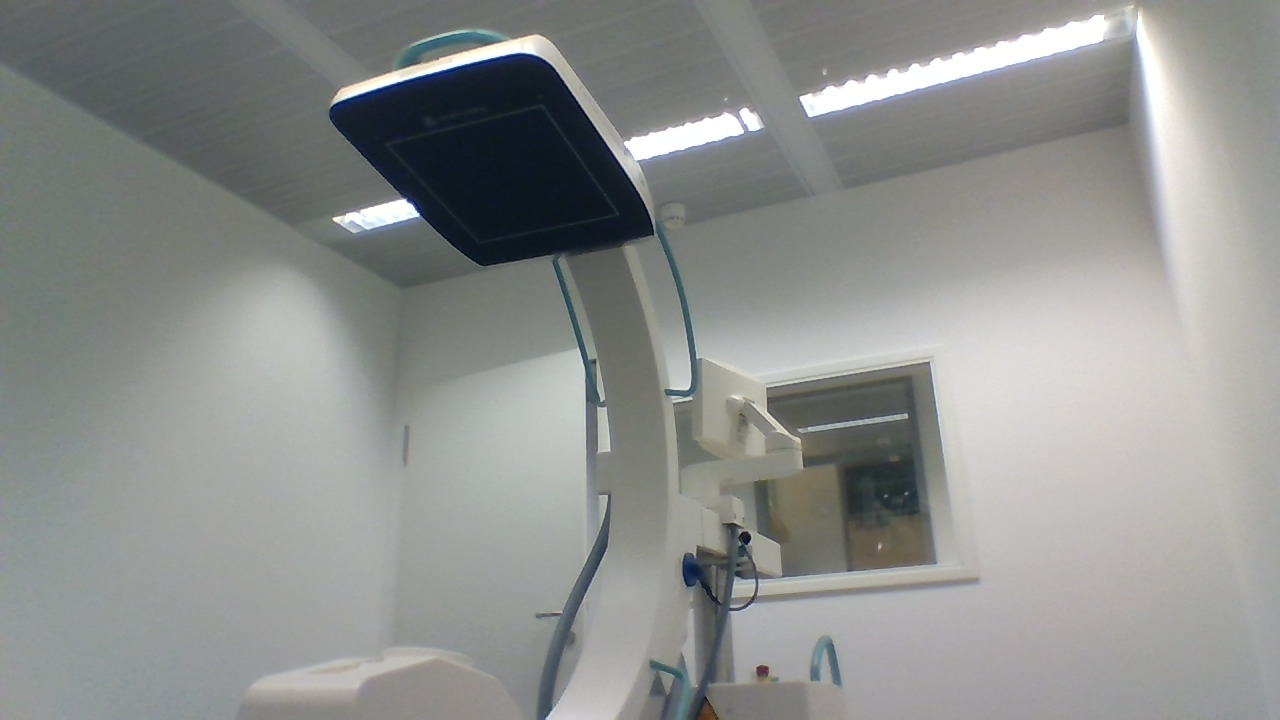carmBACK: (755, 674, 781, 686)
carmLOCK: (681, 550, 705, 587)
carmSCREEN: (689, 356, 768, 467)
carmUP: (327, 32, 656, 269)
